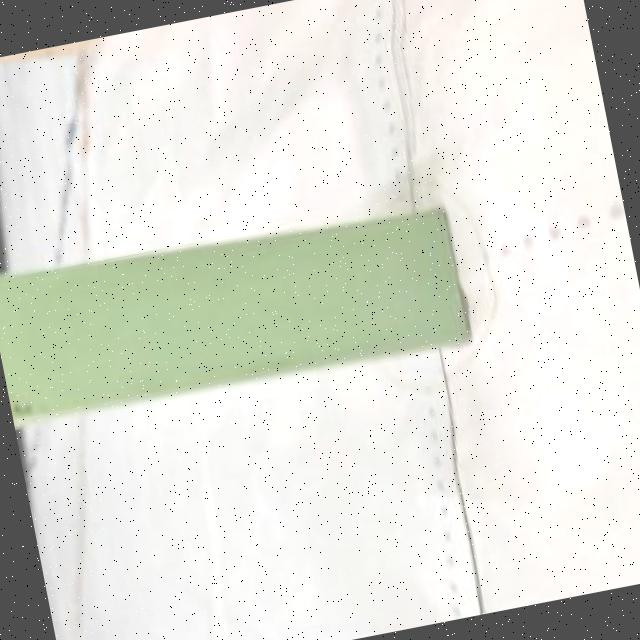greenbox: (0, 185, 474, 435)
